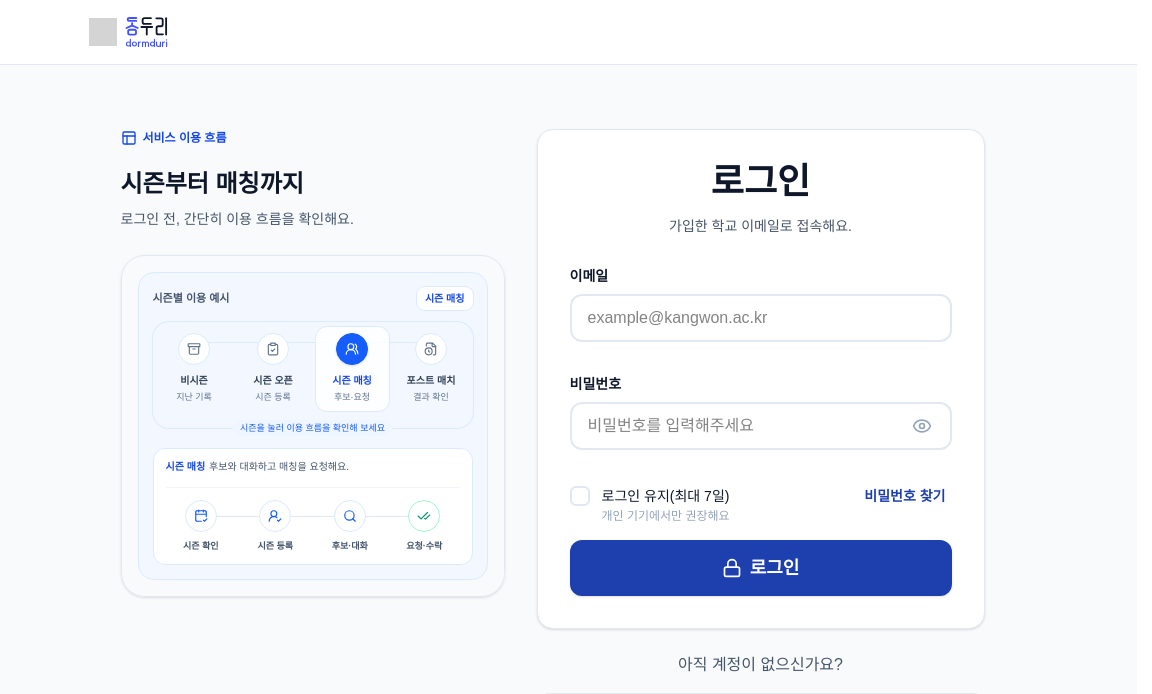
Test: LoginPageClient › 로그인 실패 시 에러 메시지를 표시한다
The width and height of the screenshot is (1152, 694).
Type "test@kangwon.ac.kr" into the field labelled "이메일". click: (760, 318)
box: [570,294,952,342]
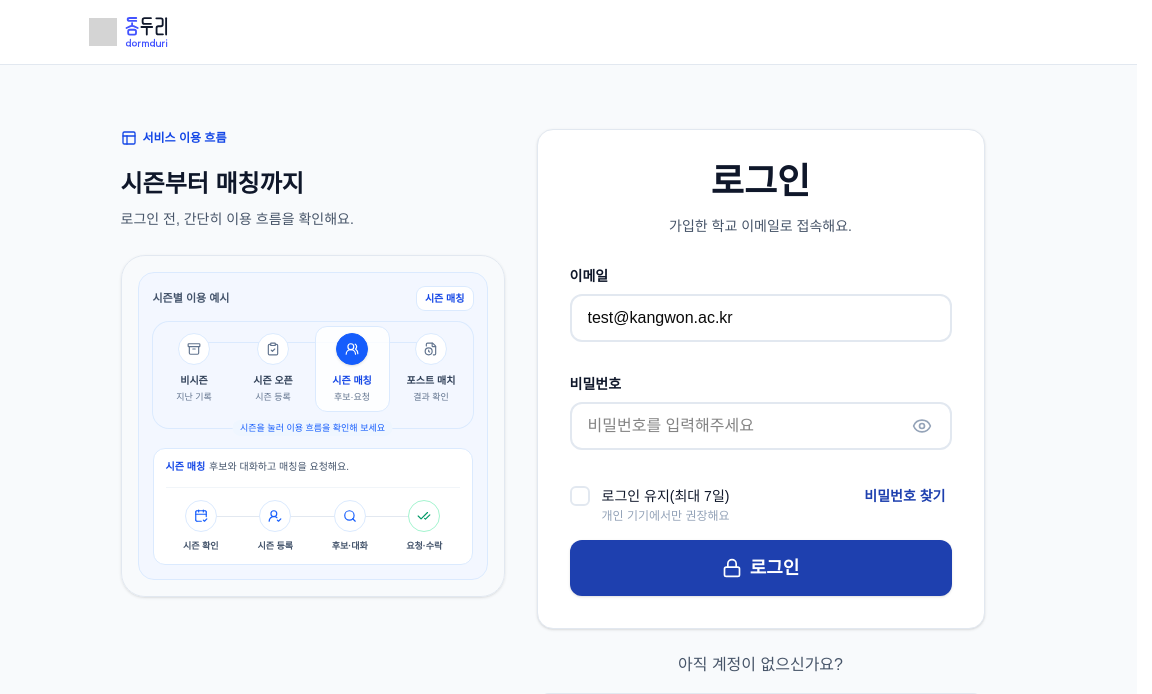
Type "wrongpass" into the password field labelled "비밀번호". click: (760, 426)
box: [570,402,952,450]
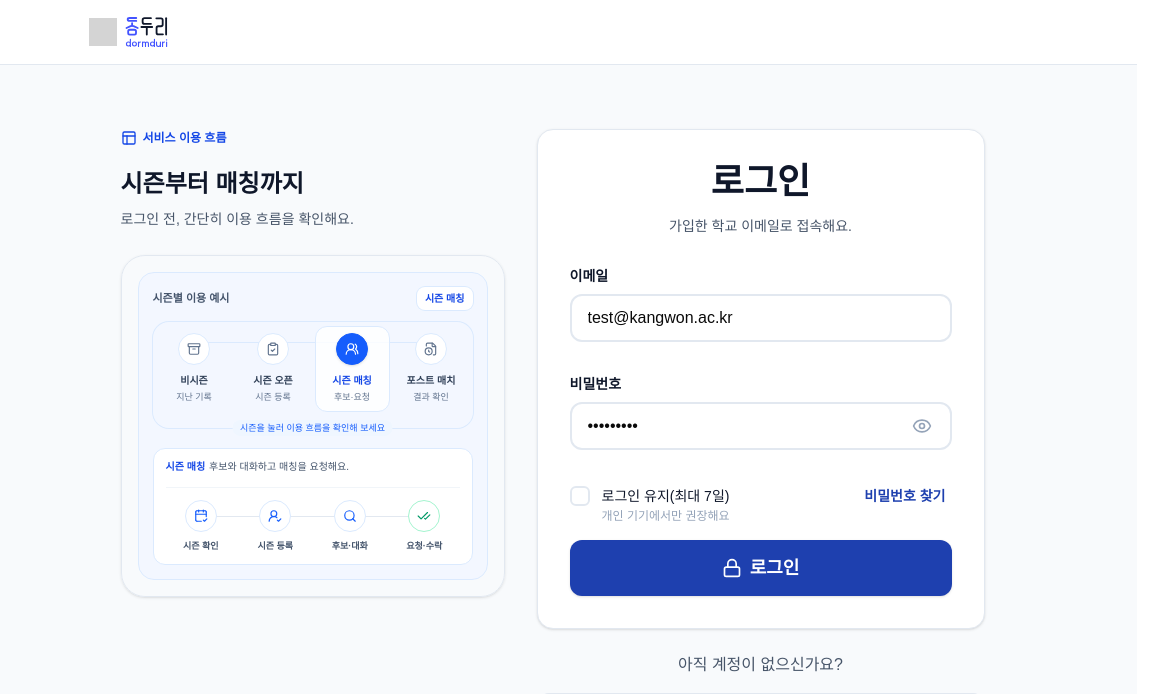
Click the button "로그인". click: (760, 568)
box: [570,540,952,596]
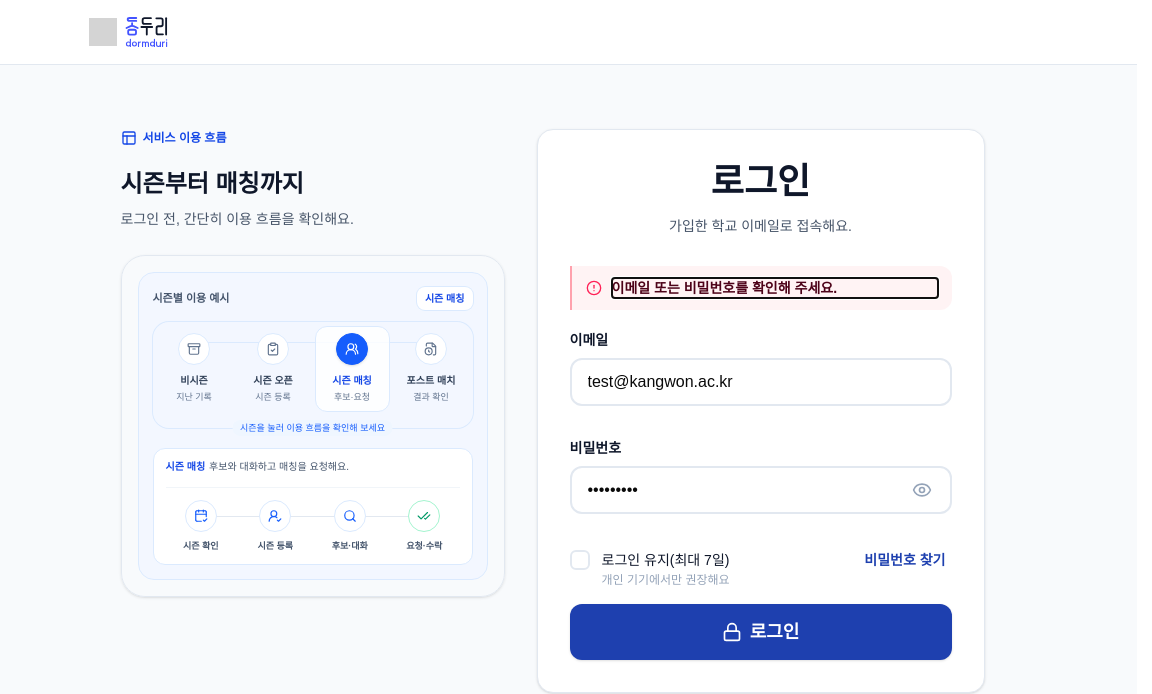
Now the text "이메일 또는 비밀번호를 확인해 주세요." is shown, box [612,280,837,296]
